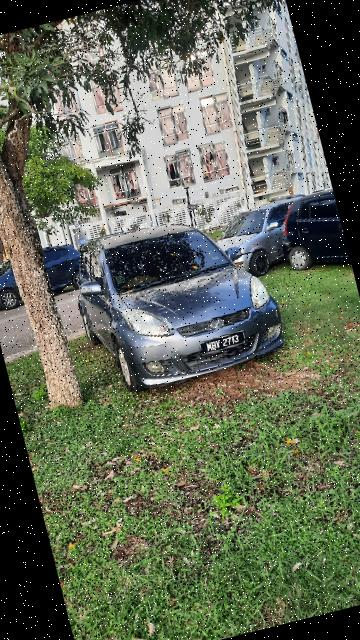License_Plate: (194, 328, 249, 359)
car: (67, 199, 294, 405), (194, 179, 332, 287), (256, 178, 352, 283)
